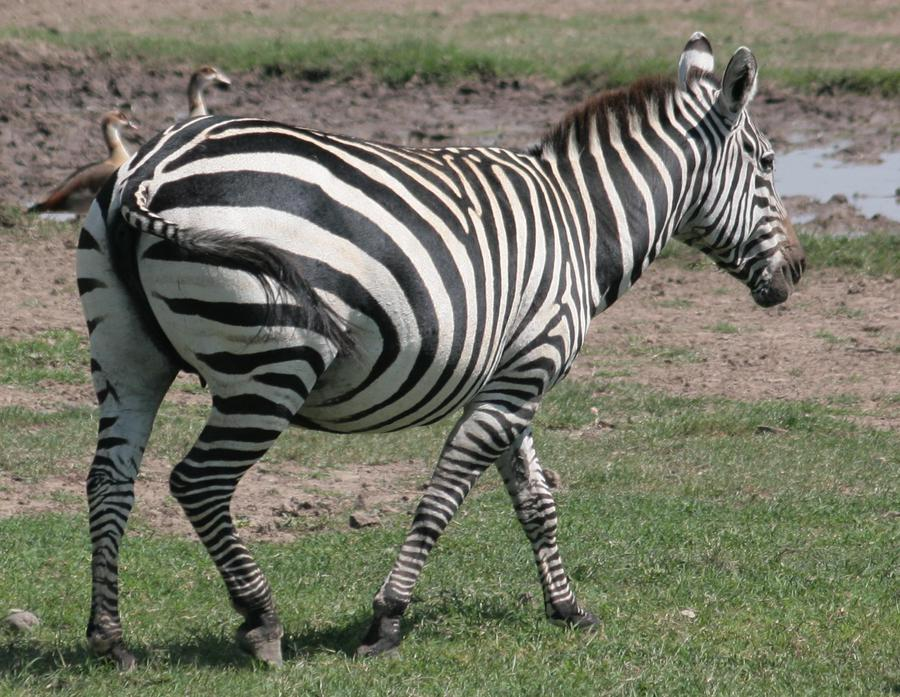zebra_plains: (183, 105, 597, 464)
